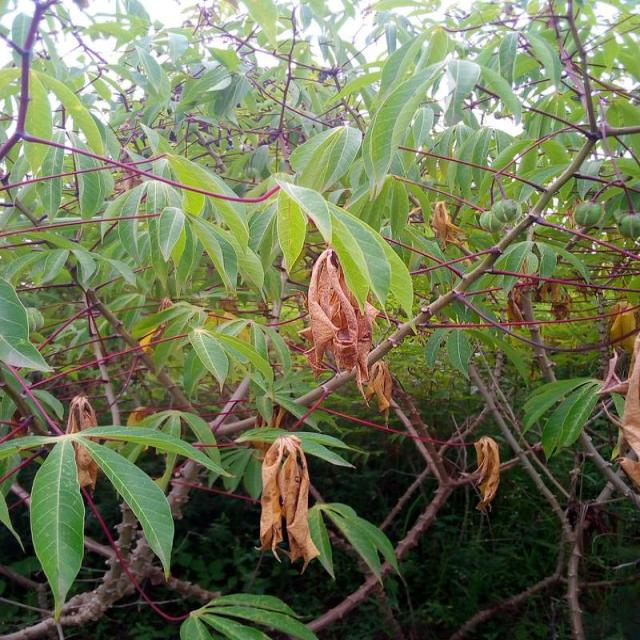cassava leaf: (275, 178, 414, 319), (73, 434, 174, 581), (29, 433, 85, 620)
